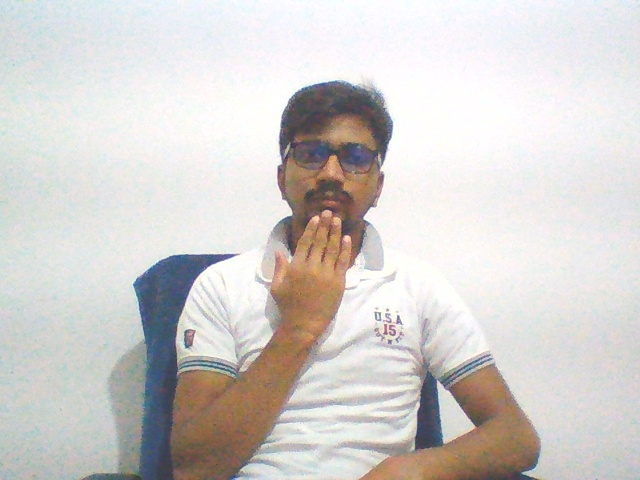mango: (263, 205, 357, 351)
